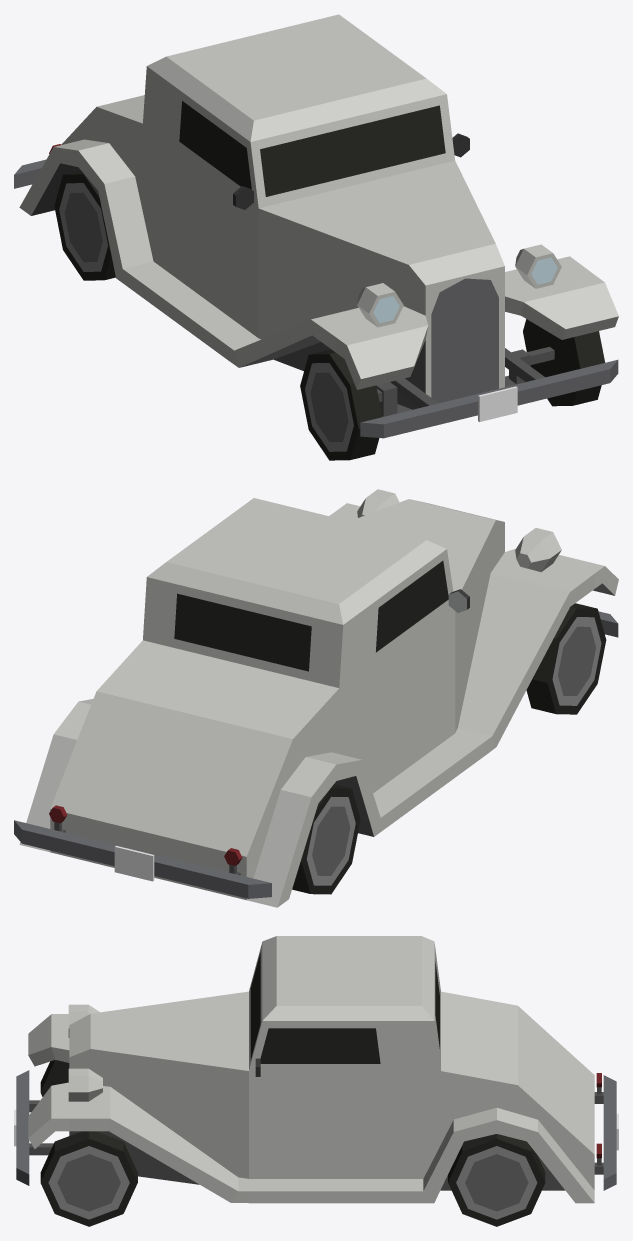
File: Veh_Retro_Car_02_White.obj
The picture shows the model from 3 angles, top to bottom: view 1: azimuth 30°, elevation 25°; view 2: azimuth 150°, elevation 25°; view 3: azimuth 270°, elevation 25°; orthographic projection. The views are drawn at different scales.
Bounding box in the file's own units: 0.9825 × 0.8995 × 2.4.
